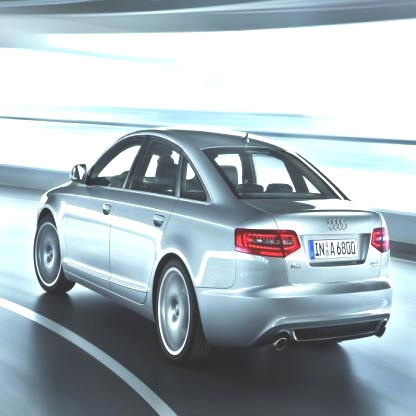Vehicle: (31, 122, 396, 374)
